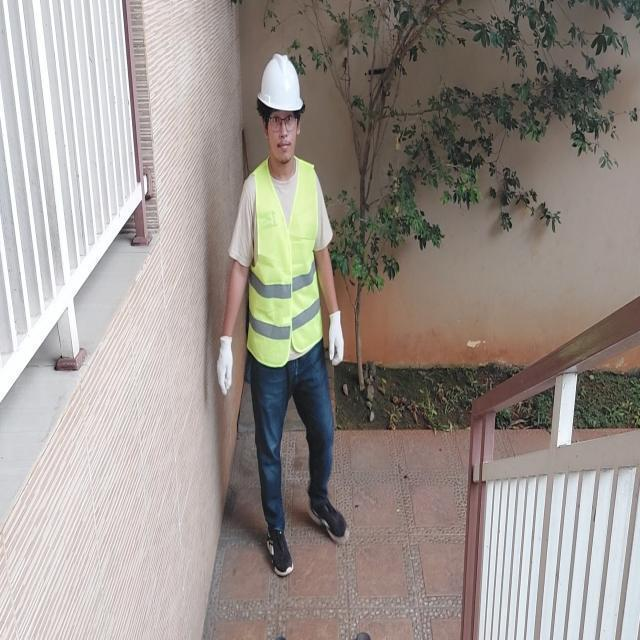helmet: (248, 41, 312, 120)
safety_vest: (239, 147, 347, 378)
